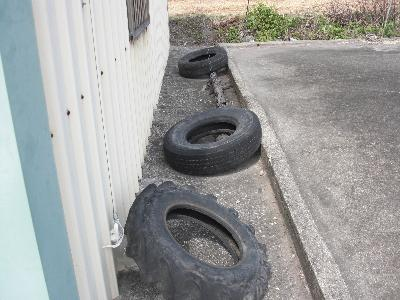tire: (123, 180, 272, 300), (162, 105, 263, 176), (177, 45, 230, 79)
